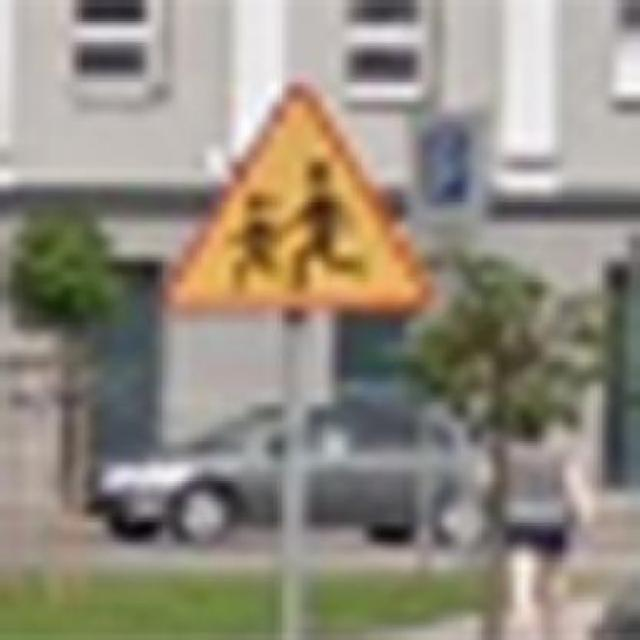Dzieci: (155, 78, 433, 317)
